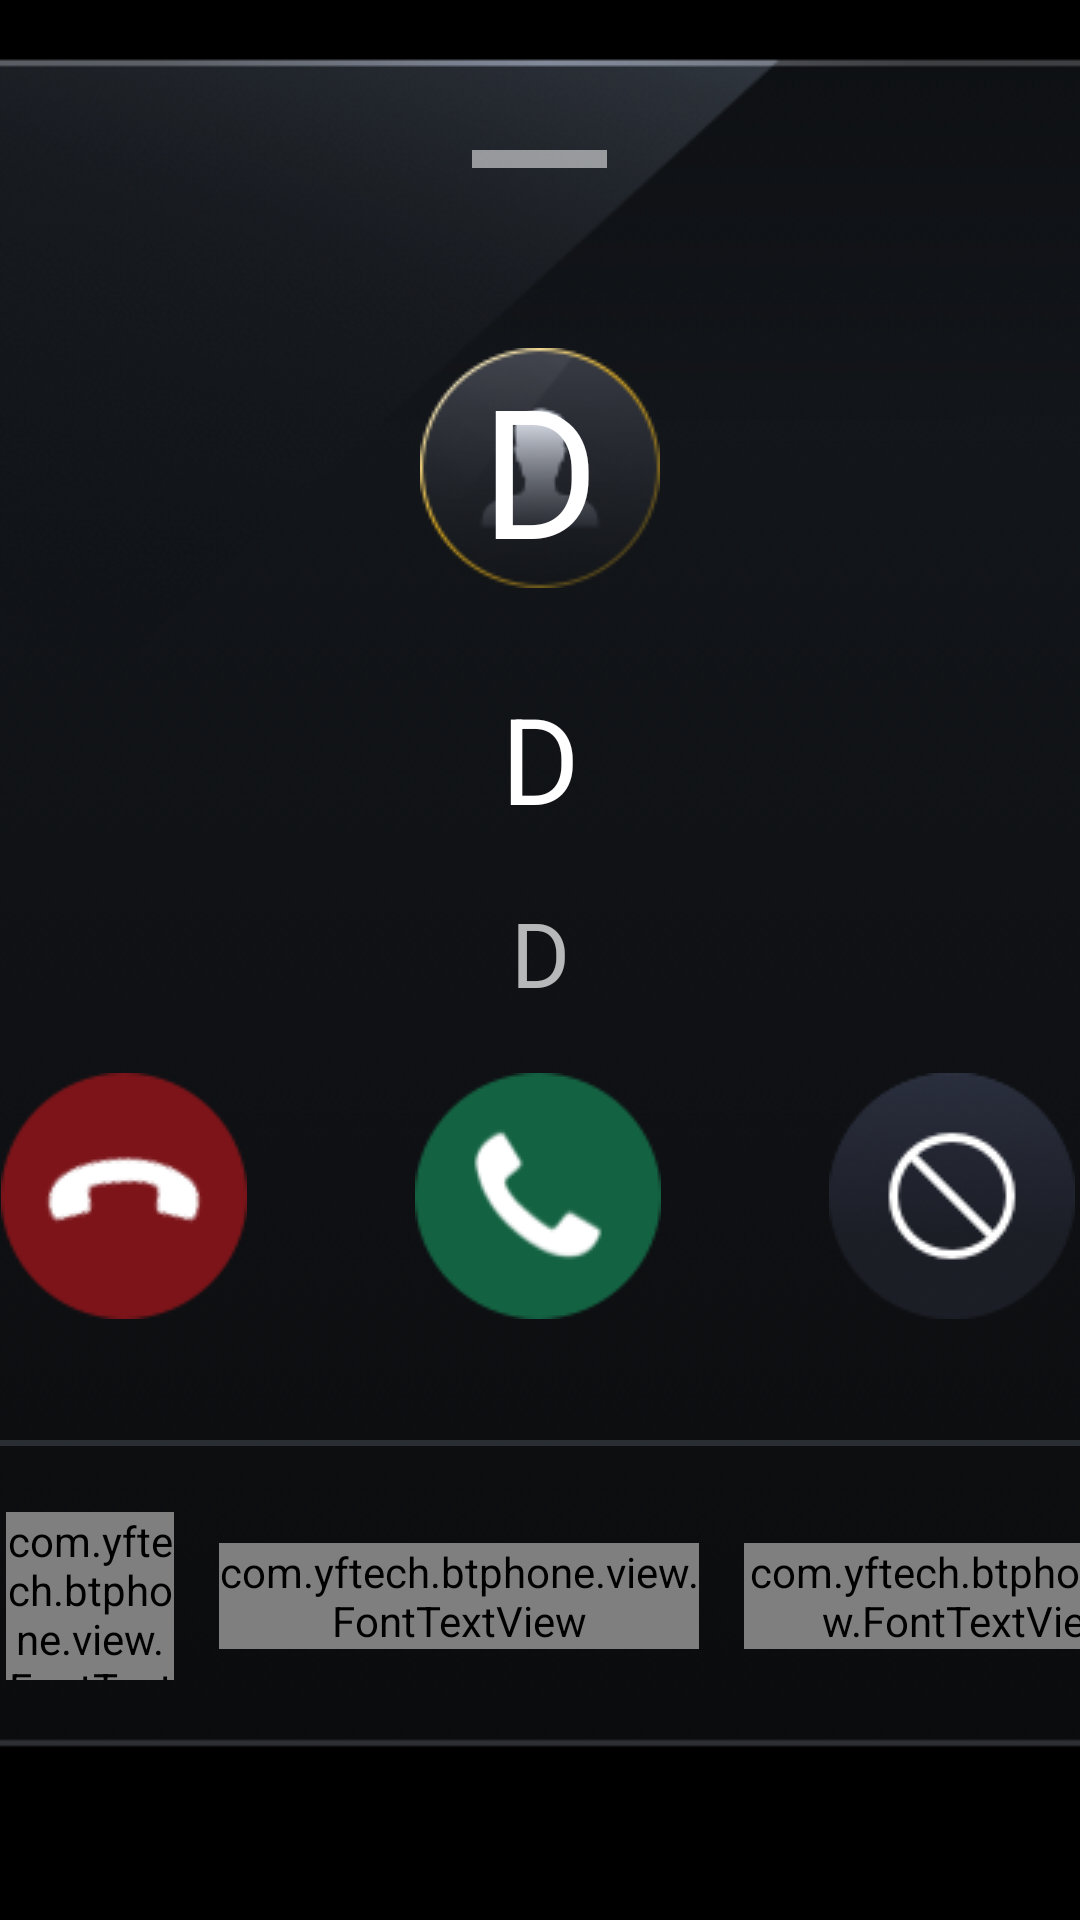

Named icons in this screenshot (1080 × 1920) and their centers, [x,y]:
answer: [538,1196]
hangup: [124,1196]
ignore: [952,1166]
